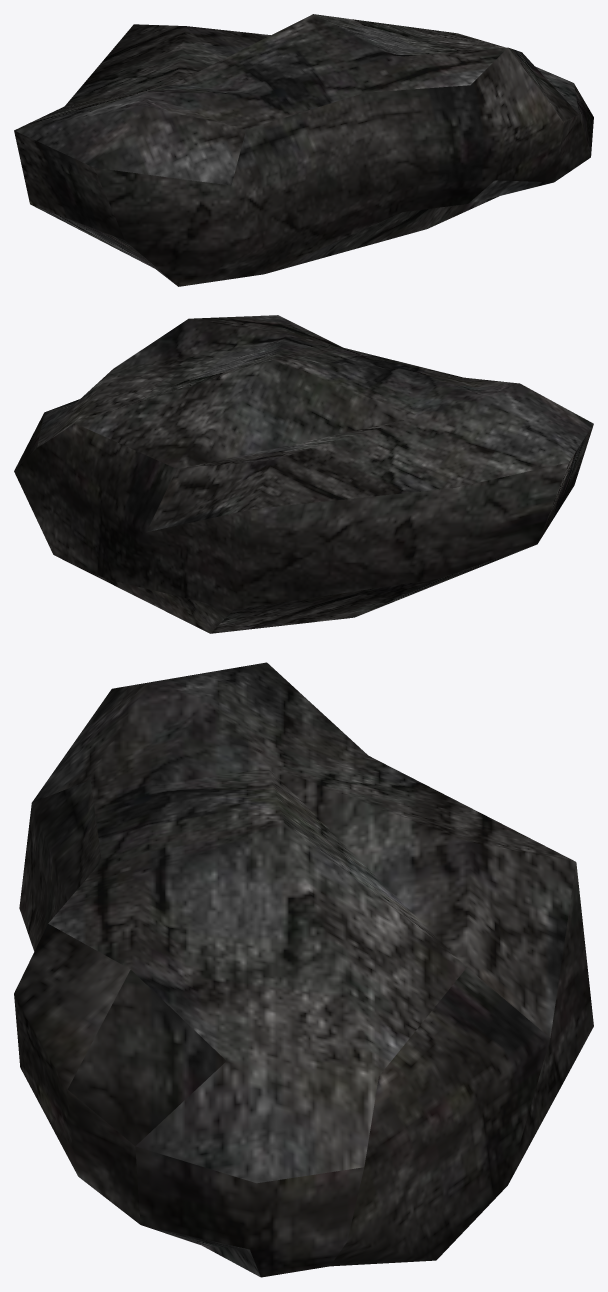
Rendered from Rock 5.glb.
The picture shows the model from 3 angles, top to bottom: view 1: azimuth 30°, elevation 25°; view 2: azimuth 150°, elevation 25°; view 3: azimuth 270°, elevation 25°; orthographic projection. The views are drawn at different scales.
Visible parts, largest first — view 1: rock_5_low; view 2: rock_5_low; view 3: rock_5_low.
Boxes of the visible parts, <box> form: rock_5_low: <box>14,14,593,286</box>; rock_5_low: <box>14,315,593,633</box>; rock_5_low: <box>14,662,593,1277</box>.
Bounding box in the file's own units: 0.1827 × 0.0695 × 0.1096.
Materials: 1 (1 with a texture image).
